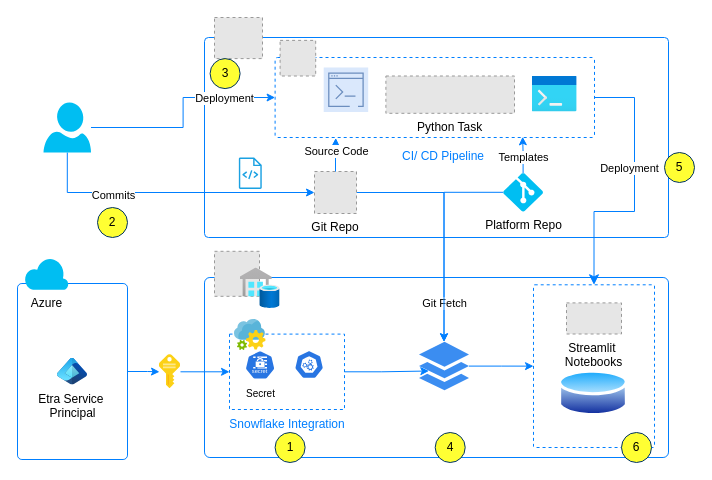
This 712x480 diagram has some shape labels left out. Grey dashed boxes stand in for pictures. Here are the shapes that lost their labels. From the top down, the centre of each, then its label:
At pixel 345 89: "Snowflake CLI".
At pixel 554 94: "Powershell".
At pixel 250 172: "Snow SQL, Python Streamlit Notebooks, etc.".
At pixel 309 364: "Integration".
At pixel 443 365: "Snowflake Git Stage".
At pixel 593 393: "Database".
